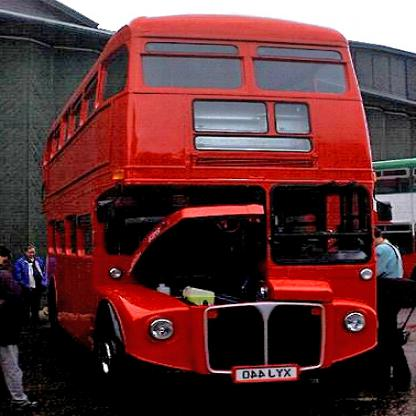bus: (44, 15, 380, 416)
person: (2, 250, 42, 409), (377, 227, 414, 386), (17, 244, 49, 331)
